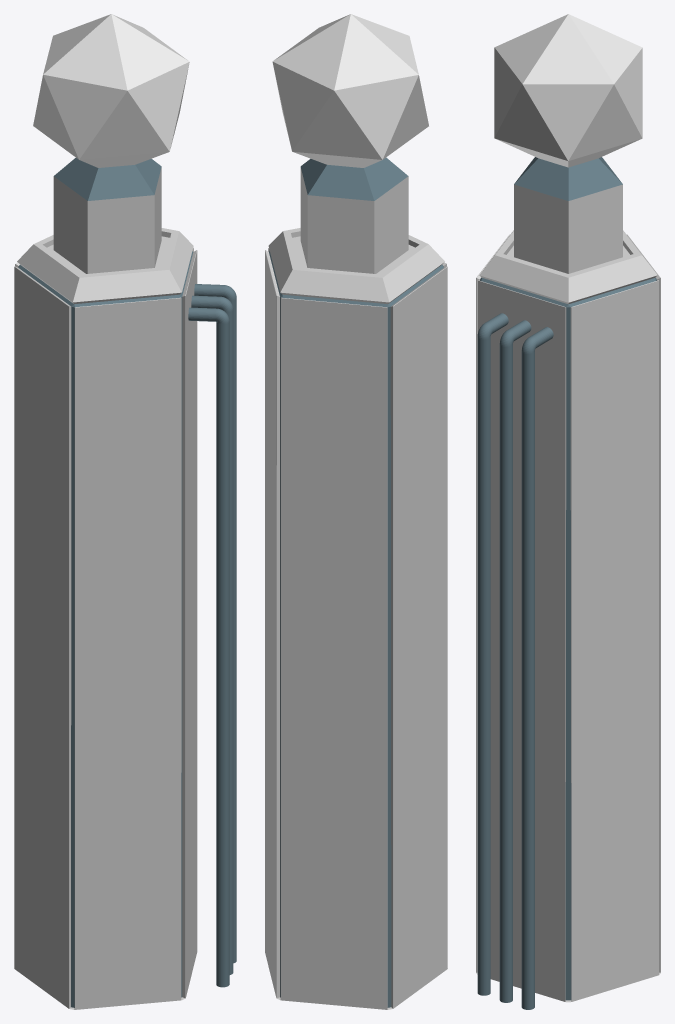
File: Solarturm.fbx
The picture shows the model from 3 angles, left to right: view 1: azimuth 30°, elevation 25°; view 2: azimuth 150°, elevation 25°; view 3: azimuth 270°, elevation 25°; orthographic projection.
Parts seen in each view (by area): view 1: Icosphere, Cylinder.002, Cylinder.001, Cylinder; view 2: Icosphere; view 3: Icosphere, Cylinder, Cylinder.001, Cylinder.002.
Boxes of the visible parts, box(x1,y1,x2,y2) form: Icosphere: box(14, 14, 197, 1009); Cylinder.002: box(188, 307, 229, 987); Cylinder.001: box(191, 295, 233, 974); Cylinder: box(194, 284, 236, 963); Icosphere: box(265, 14, 447, 1009); Icosphere: box(476, 14, 660, 1002); Cylinder: box(521, 327, 553, 1009); Cylinder.001: box(499, 320, 531, 1002); Cylinder.002: box(477, 313, 508, 995).
Bounding box in the file's own units: 180 × 950 × 168.
